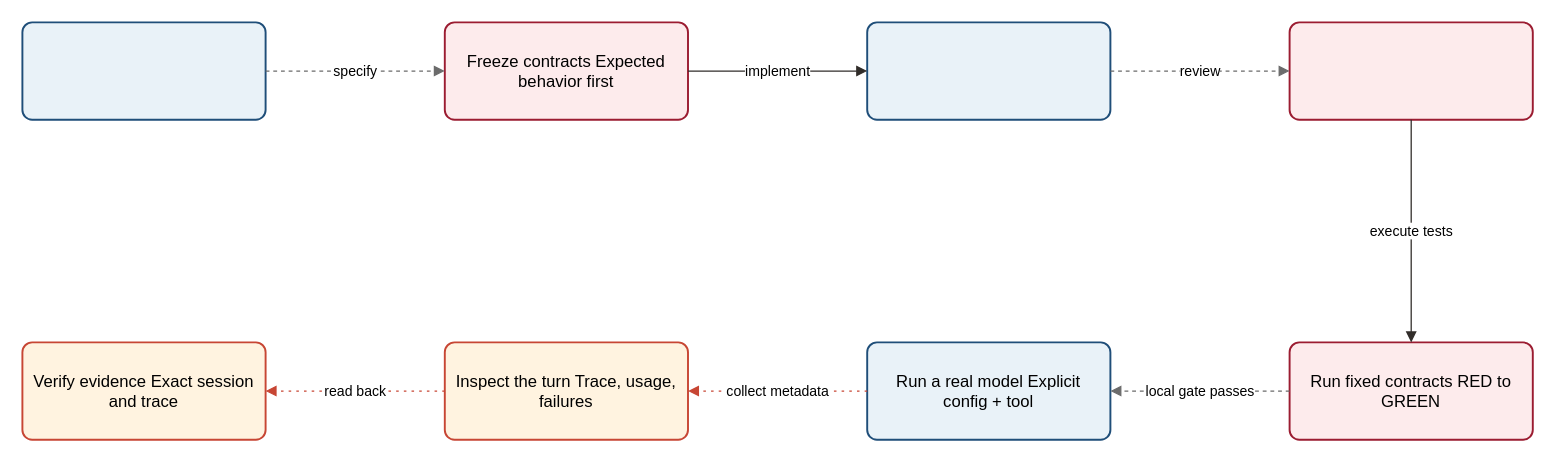
Image size: 1556x463. Some labels were removed from this diagram. Here are the shapes that lost their labels. From the top down, the box of each, then its label:
(21, 21, 266, 120): Define the job Input, output, boundaries
(866, 21, 1111, 120): Create with Codex Fresh learner workspace
(1288, 21, 1533, 120): Inspect the diff No credentials or egress
